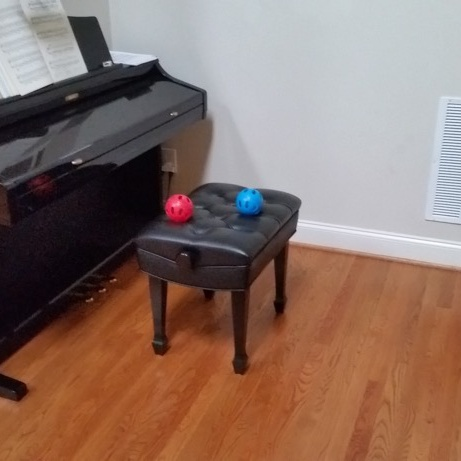ball: (160, 191, 198, 225), (229, 185, 268, 218)
